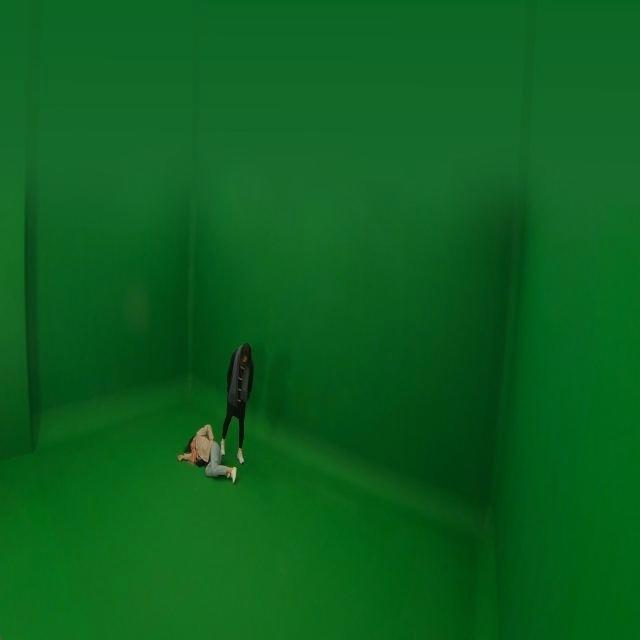fight: (177, 337, 253, 481)
